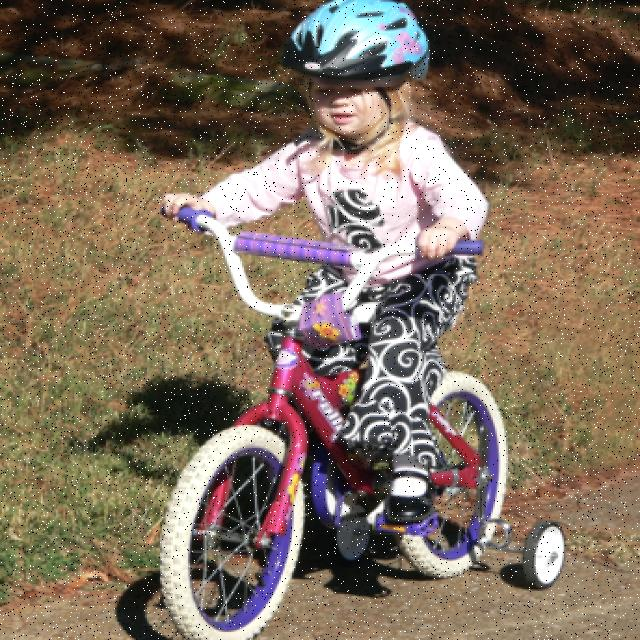with-helmet: (277, 0, 441, 158)
